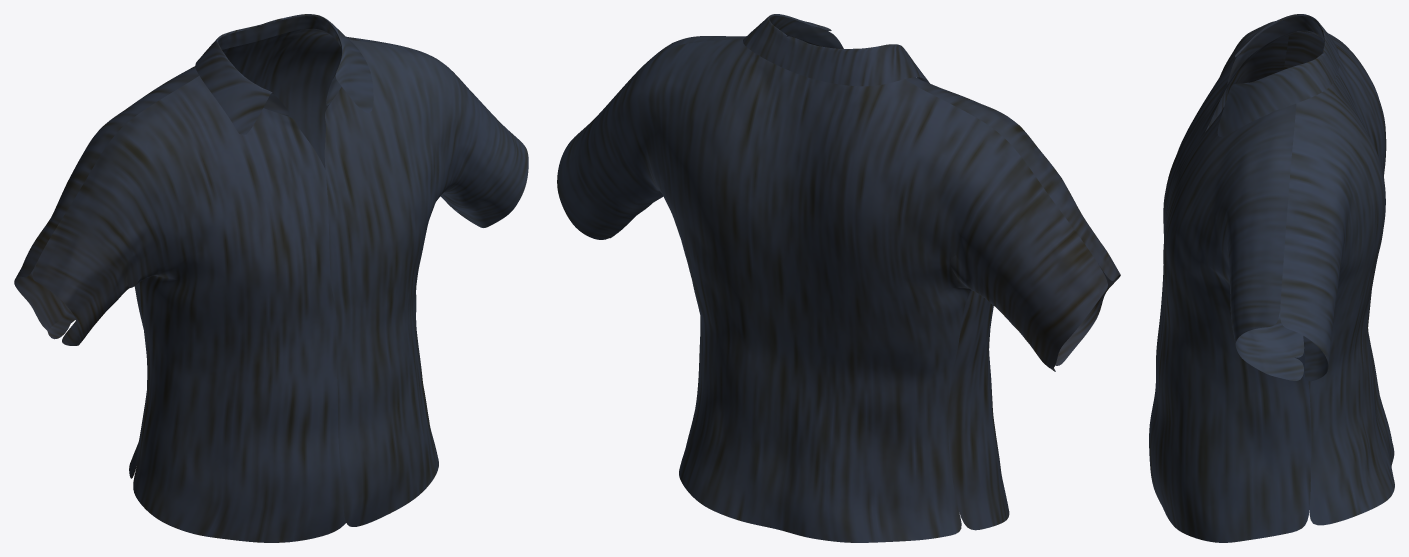
Rendered from SL_SMM.dae.
3 renders of one model, left to right at view 1: azimuth 30°, elevation 25°; view 2: azimuth 150°, elevation 25°; view 3: azimuth 270°, elevation 25°, orthographic. The views are drawn at different scales.
Visible parts, largest first — view 1: shortshirt; view 2: shortshirt; view 3: shortshirt.
Boxes of the visible parts, x1=… form: shortshirt: x1=14, y1=14, x2=528, y2=542; shortshirt: x1=557, y1=14, x2=1120, y2=542; shortshirt: x1=1149, y1=14, x2=1394, y2=542.
Size of the model in its own units: 6.65 by 5.81 by 2.83.
